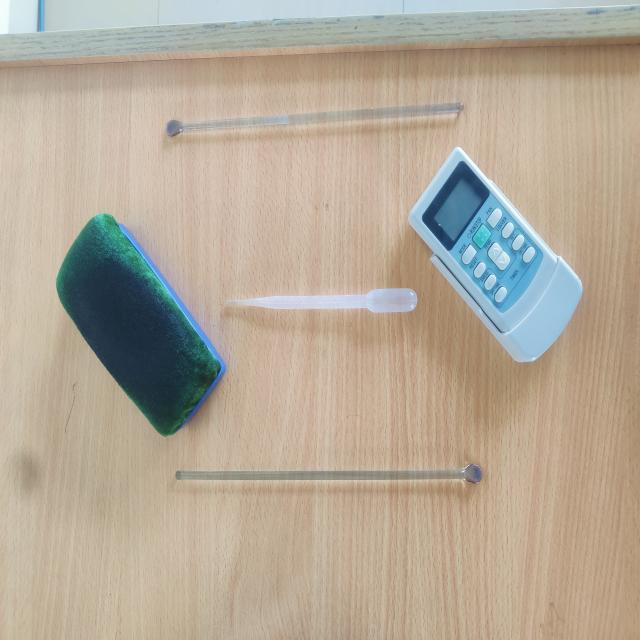Glass_Rod: (127, 401, 497, 550), (136, 65, 481, 172)
Pipette: (191, 239, 451, 366)
